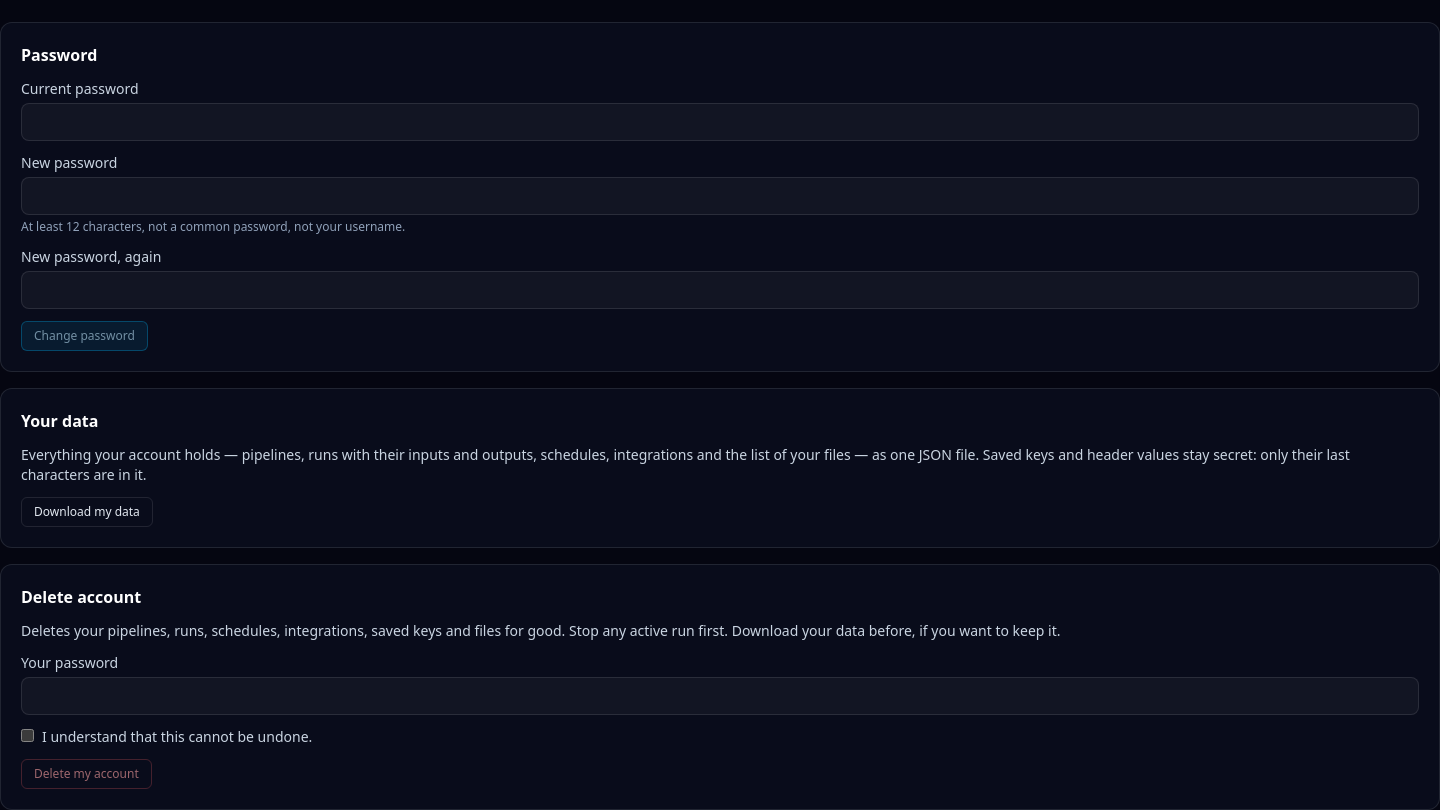
Scenario: AccountSection › stays signed in when the deletion is refused
(page scrolled)
Type "my-password-123" into the password field labelled "Your password" at coordinates (720, 696), box [21,677,1419,715]
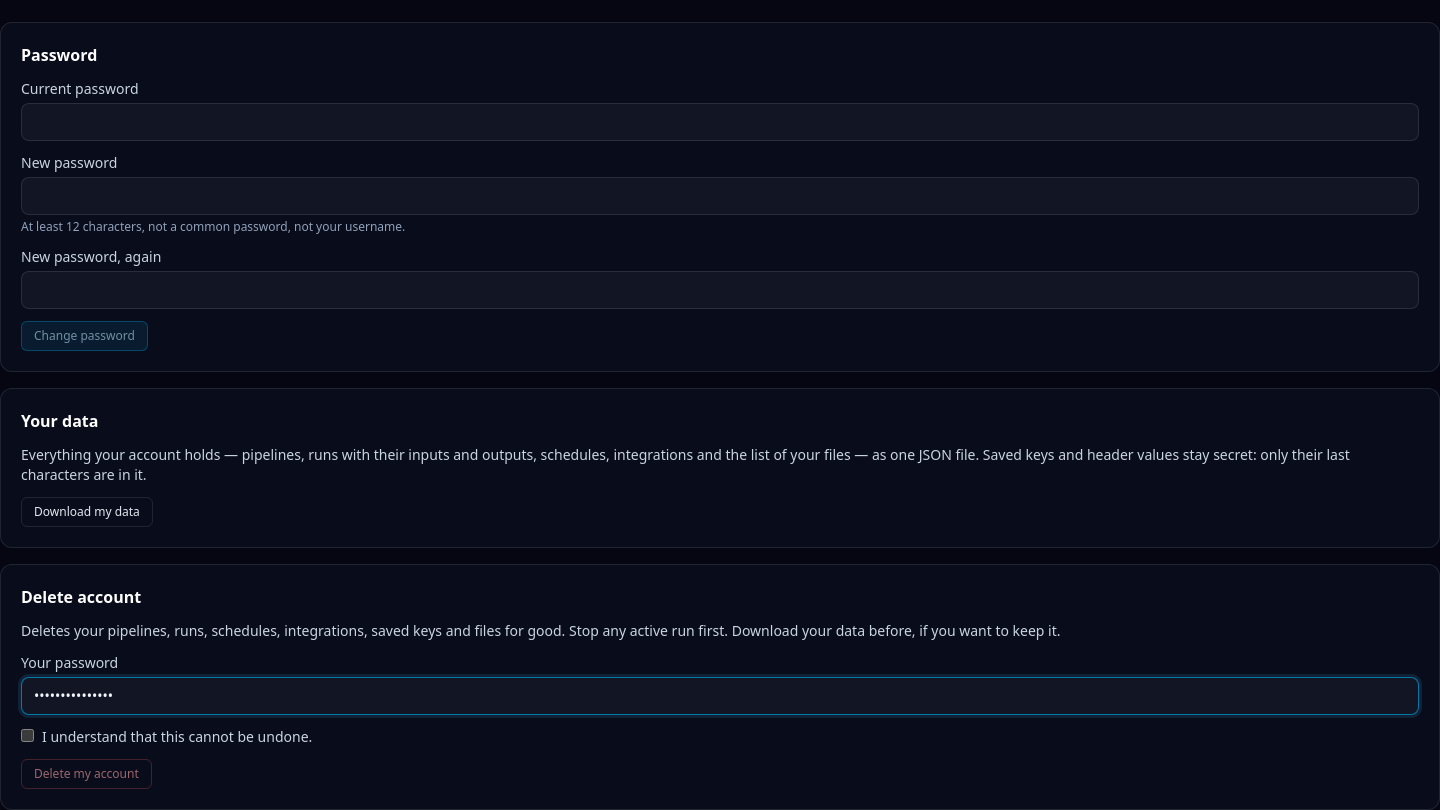
Click the checkbox labelled "I understand that this cannot be undone." at coordinates (28, 736), box [21,729,34,742]
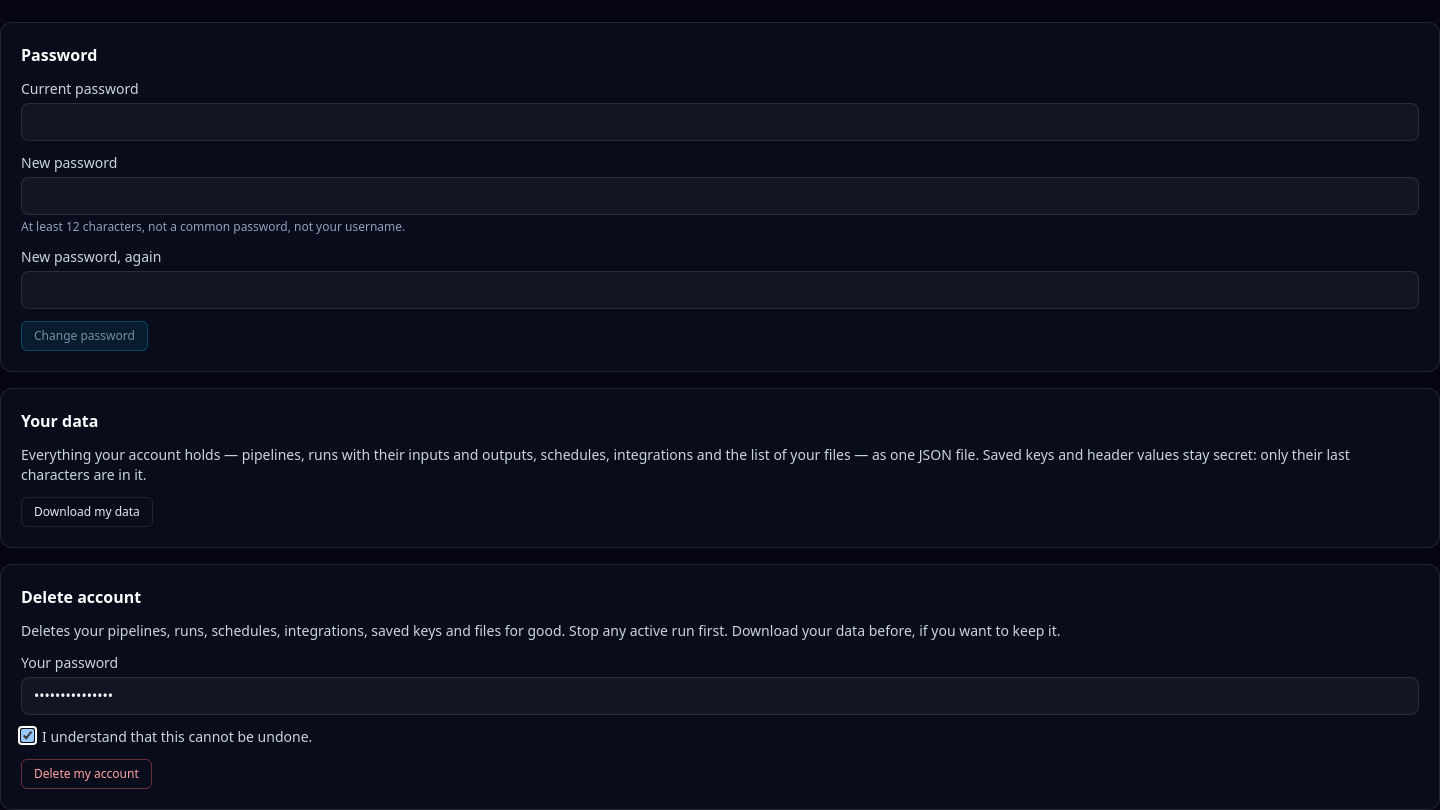
Click the button "Delete my account" at coordinates (86, 774), box [21,759,152,789]
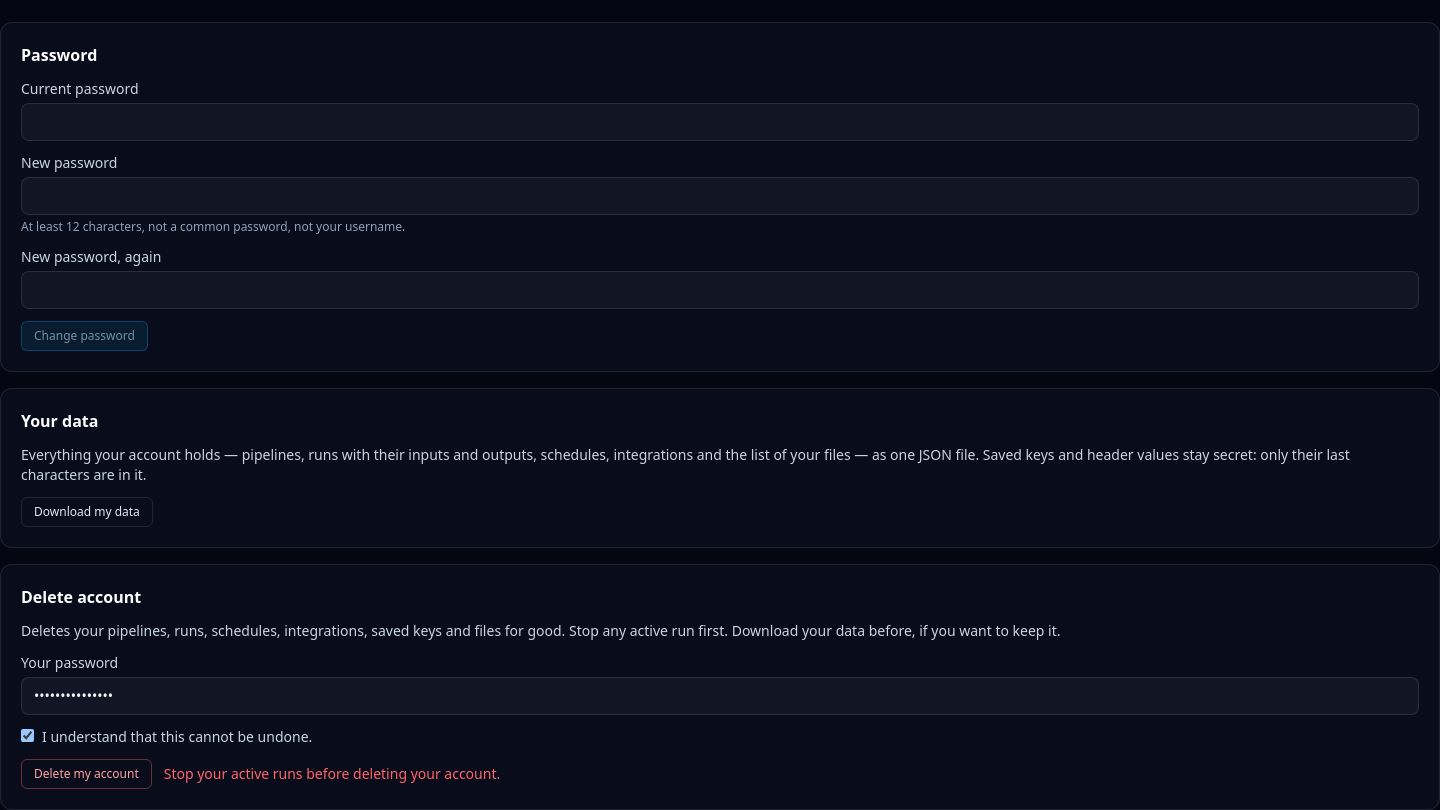
Now the message shows "Stop your active runs", box [164,764,500,783]
